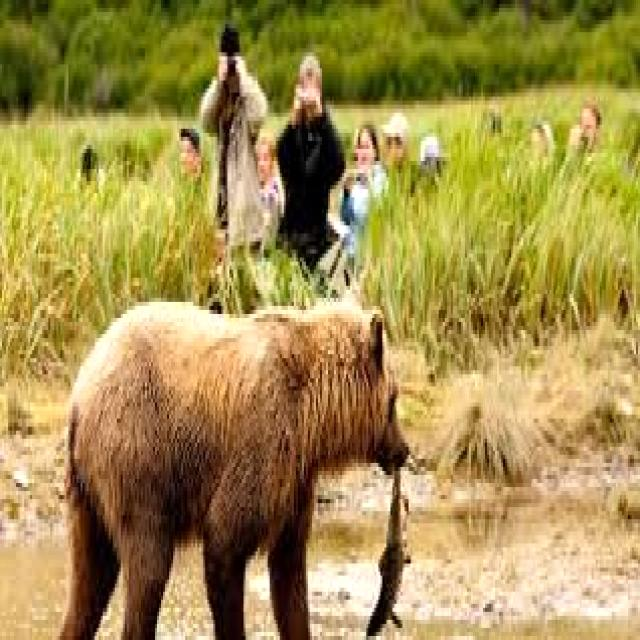bear: (52, 299, 434, 640)
